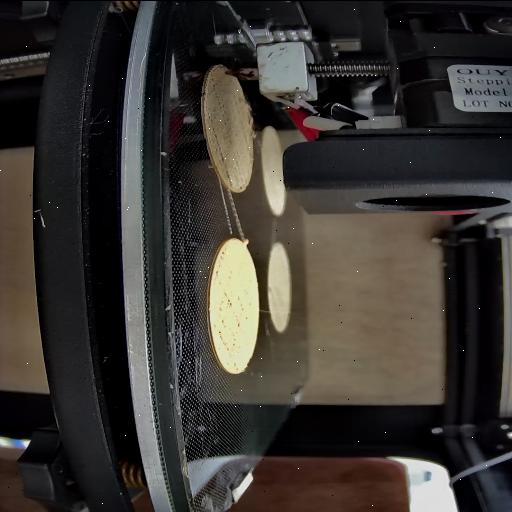under_extrusion: (208, 75, 234, 189), (218, 291, 252, 369), (204, 249, 235, 288)
